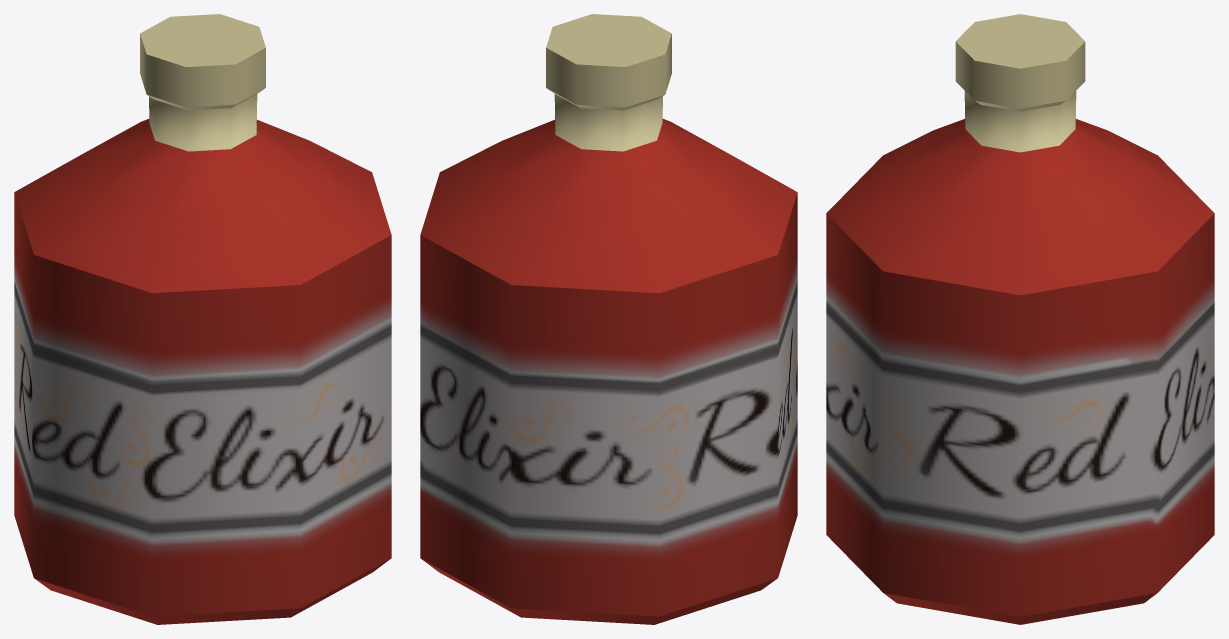
The model's file is Liquor_02.fbx.
The picture shows the model from 3 angles, left to right: view 1: azimuth 30°, elevation 25°; view 2: azimuth 150°, elevation 25°; view 3: azimuth 270°, elevation 25°; orthographic projection.
Parts seen in each view (by area): view 1: Liquor_02; view 2: Liquor_02; view 3: Liquor_02.
Boxes of the visible parts, x1,y1,x2,y2 form: Liquor_02: [14, 14, 391, 624]; Liquor_02: [420, 14, 797, 624]; Liquor_02: [826, 14, 1214, 624].
Size of the model in its own units: 12.4 by 17.95 by 12.4.
